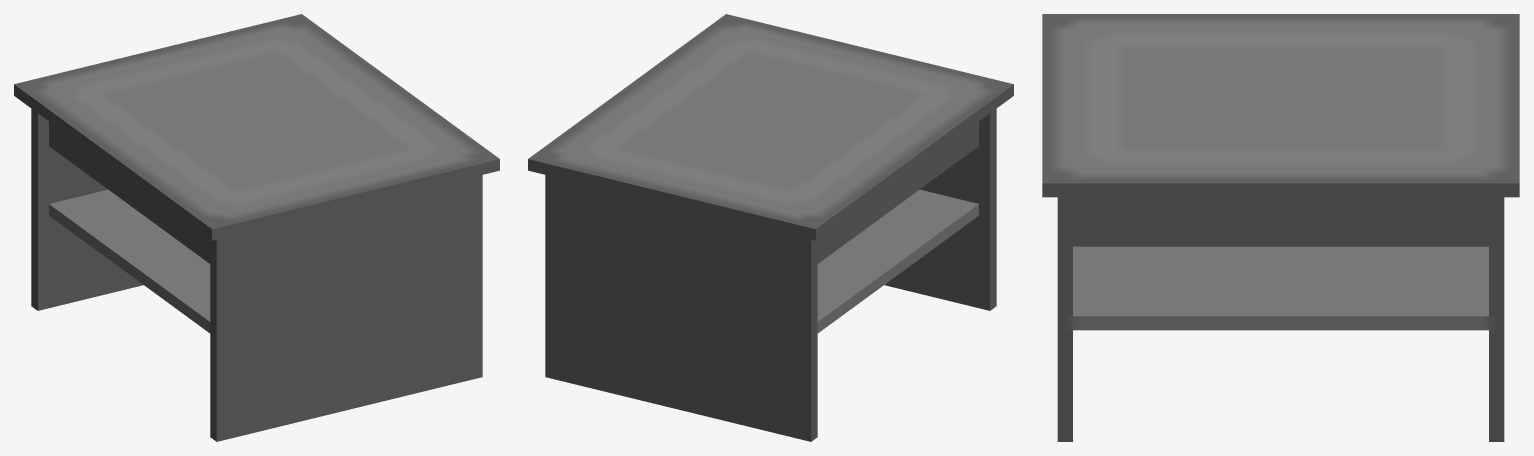
Rendered from coffee_table.fbx.
The picture shows the model from 3 angles, left to right: view 1: azimuth 30°, elevation 25°; view 2: azimuth 150°, elevation 25°; view 3: azimuth 270°, elevation 25°; orthographic projection. The views are drawn at different scales.
Parts seen in each view (by area): view 1: coffee_table; view 2: coffee_table; view 3: coffee_table.
Part boxes in pixels (x1=…): coffee_table: x1=14, y1=14, x2=499, y2=441; coffee_table: x1=528, y1=14, x2=1013, y2=441; coffee_table: x1=1042, y1=14, x2=1519, y2=441.
Size of the model in its own units: 26 by 19 by 31.
